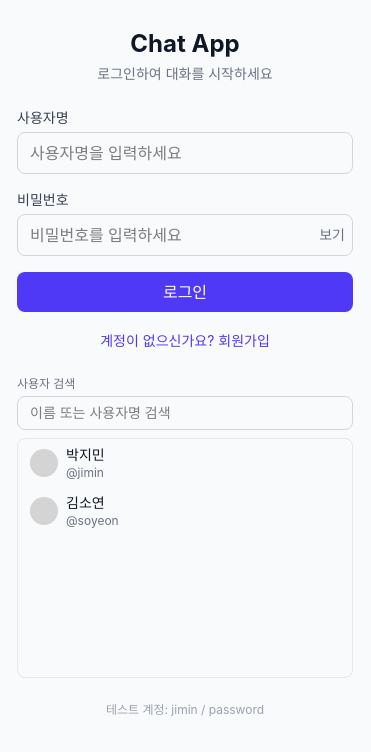
Test: LoginPage › shows validation error when fields are empty
What coordinates should you click on to do the following:
click the button "로그인"
I would click on:
 (185, 292)
Its box is 17,272 -> 353,312.
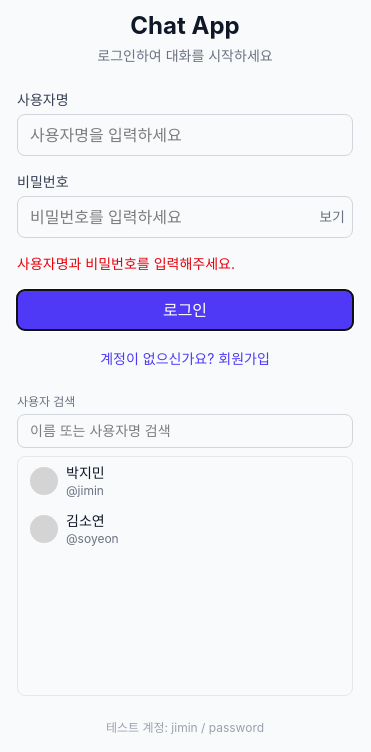
Check: the message reads "사용자명과 비밀번호를 입력해주세요.", box 17,255 -> 235,272
